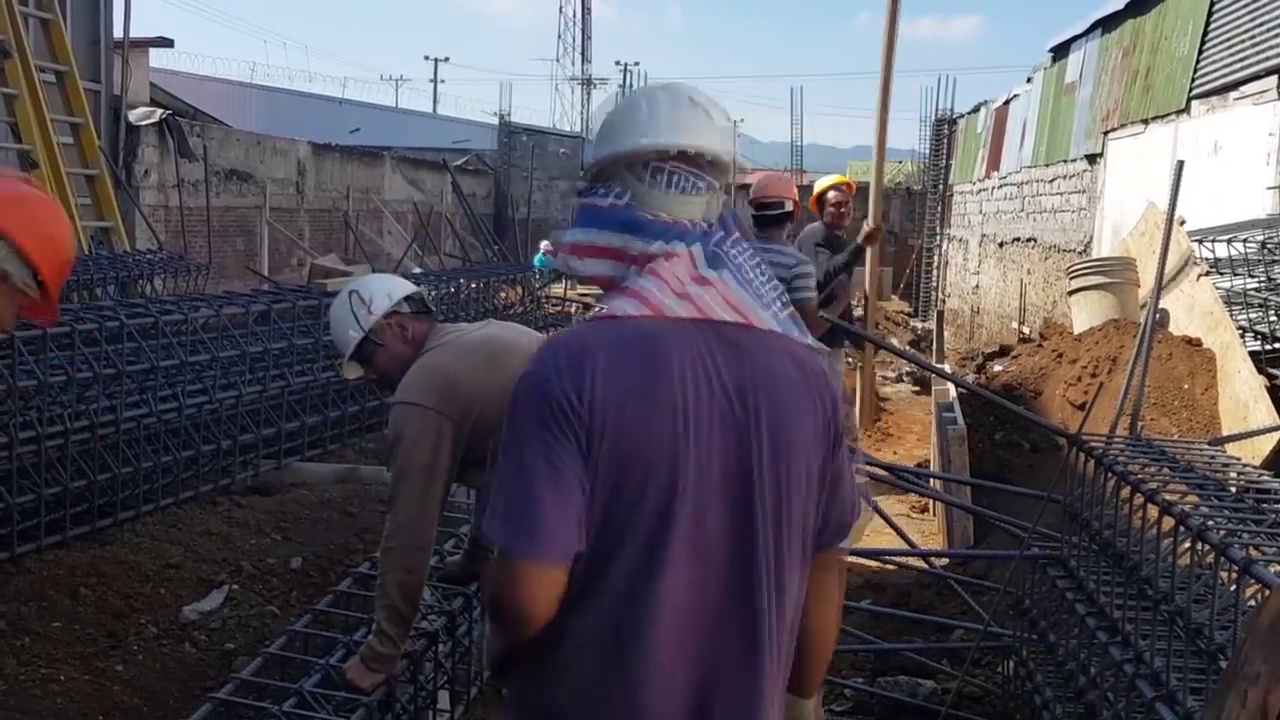helmet: (581, 83, 745, 184), (0, 168, 77, 328), (329, 271, 428, 379), (748, 173, 800, 214), (809, 173, 856, 213)
helmet-on: (580, 76, 747, 284), (328, 267, 446, 397), (809, 173, 856, 230)
person: (486, 78, 866, 719), (327, 263, 552, 693), (793, 172, 887, 399), (748, 171, 855, 339)
